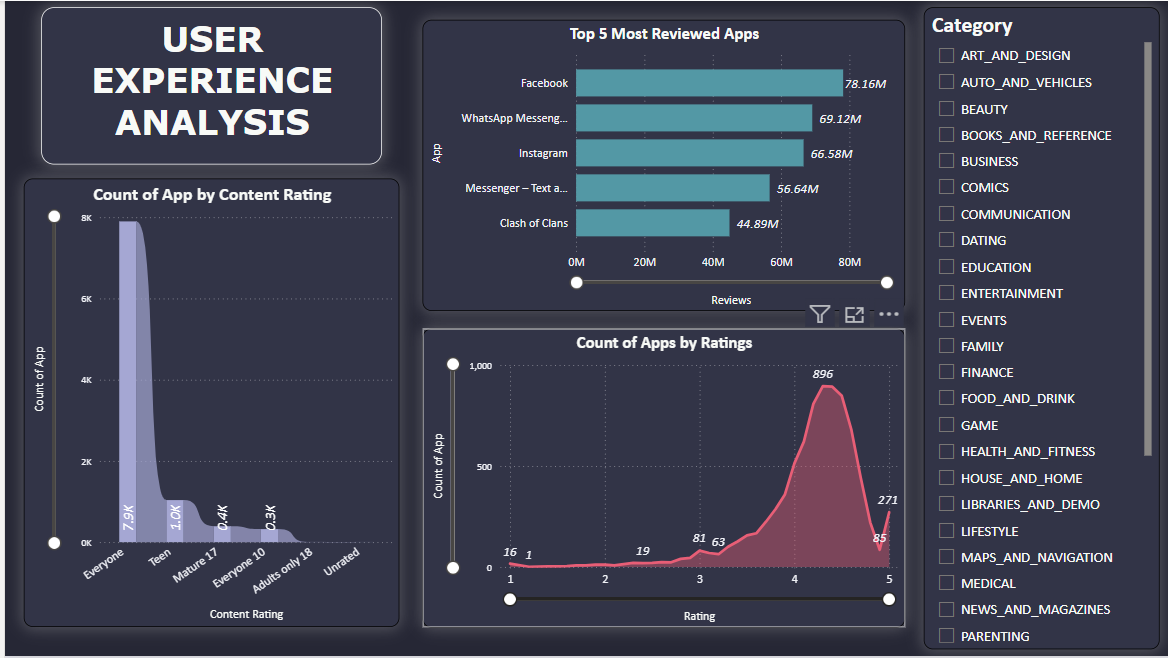

Layout of this report page (visuals, bound fields, positions):
{"tool":"powerbi","page":{"name":"User Experience Analysis","canvas":[1280,720],"ordinal":1},"visuals":[{"type":"textbox","box":[40,7.1,374.3,172.9],"z":0},{"type":"slicer","title":"Category","fields":{"Values":["googleplaystore.Category"]},"box":[1010,6.9,259.3,705.3],"z":1000},{"type":"clusteredBarChart","title":"Top 5 Most Reviewed Apps","fields":{"Category":["googleplaystore.App"],"Y":["Sum(googleplaystore.Reviews)"]},"box":[458.6,20,530,320],"z":2000},{"type":"areaChart","title":"Count of Apps by Ratings","fields":{"Category":["googleplaystore.Rating"],"Y":["CountNonNull(googleplaystore.App)"]},"box":[458.6,360,530,328.6],"z":3000},{"type":"ribbonChart","fields":{"Category":["googleplaystore.Content Rating"],"Y":["CountNonNull(googleplaystore.App)"]},"box":[20,195.7,412.9,492.9],"z":4000}]}

Visuals, with their boxes in screenshot pixels (x1, y1, x2, y2), scaled from the page's 1280x720 canvas onto the 1168x658 screenshot:
textbox: select_region(36, 6, 378, 164)
"Category" slicer: select_region(922, 6, 1158, 651)
"Top 5 Most Reviewed Apps" clusteredBarChart: select_region(418, 18, 902, 311)
"Count of Apps by Ratings" areaChart: select_region(418, 329, 902, 629)
ribbonChart - googleplaystore.Content Rating x CountNonNull(googleplaystore.App): select_region(18, 179, 395, 629)
